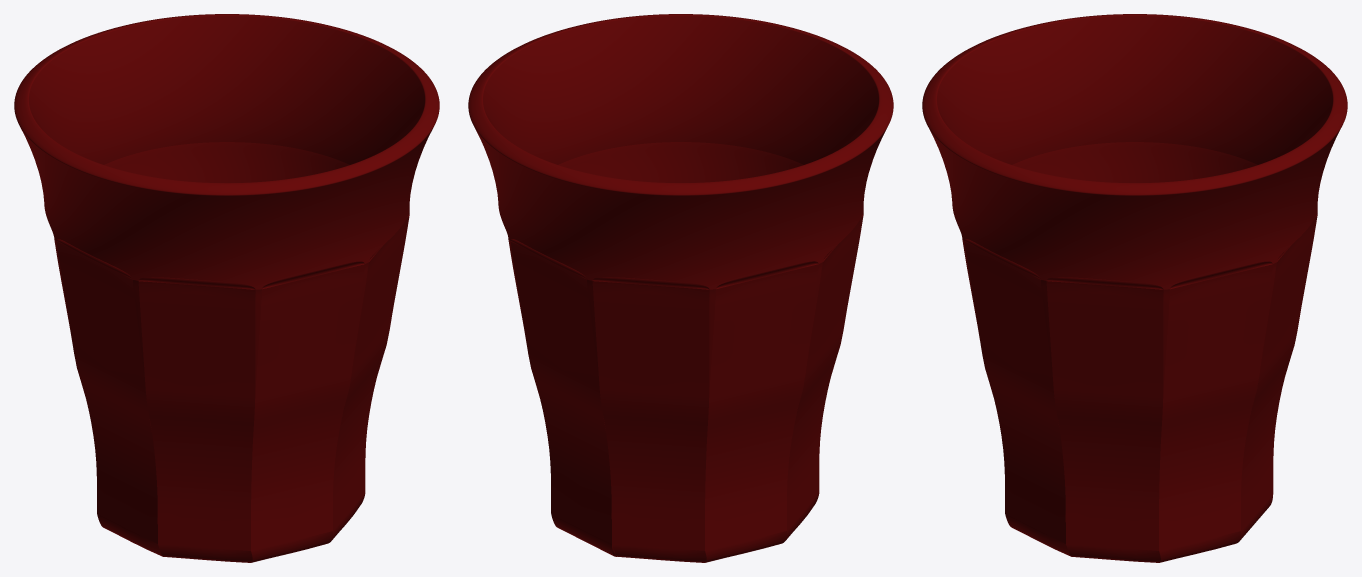
The model's file is zero.glb.
3 renders of one model, left to right at view 1: azimuth 30°, elevation 25°; view 2: azimuth 150°, elevation 25°; view 3: azimuth 270°, elevation 25°, orthographic.
Bounding box in the file's own units: 0.0631 × 0.0672 × 0.0631.
